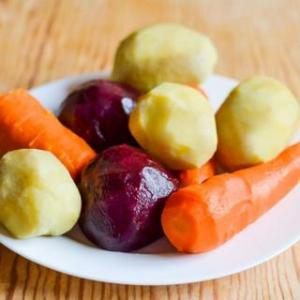beet: (84, 147, 176, 253), (61, 72, 141, 150)
carrot: (163, 133, 300, 263), (1, 74, 97, 183)
potato: (216, 73, 300, 169), (0, 142, 82, 238), (112, 24, 219, 90), (132, 82, 218, 163)
